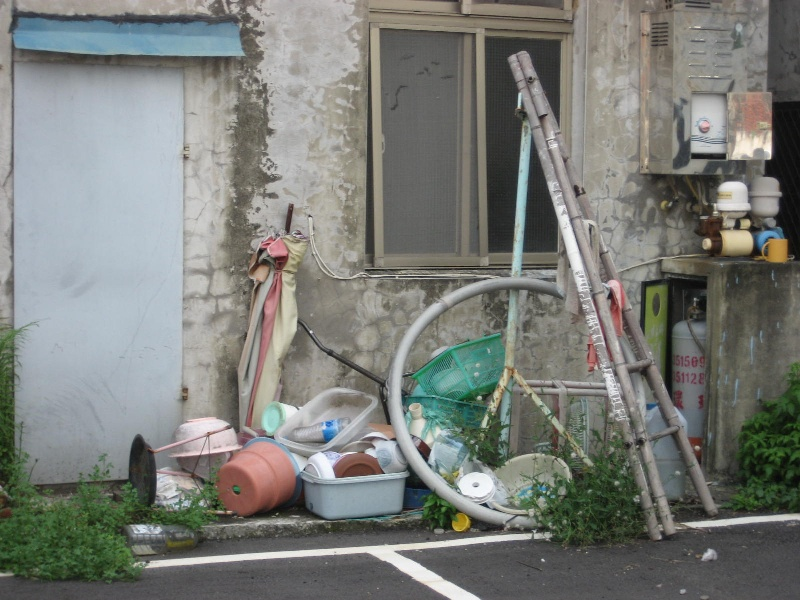bottle: (290, 416, 352, 444)
bowl: (485, 451, 574, 517), (168, 415, 246, 459)
box: (270, 386, 381, 460), (299, 469, 412, 520)
bucket: (216, 435, 304, 518)
